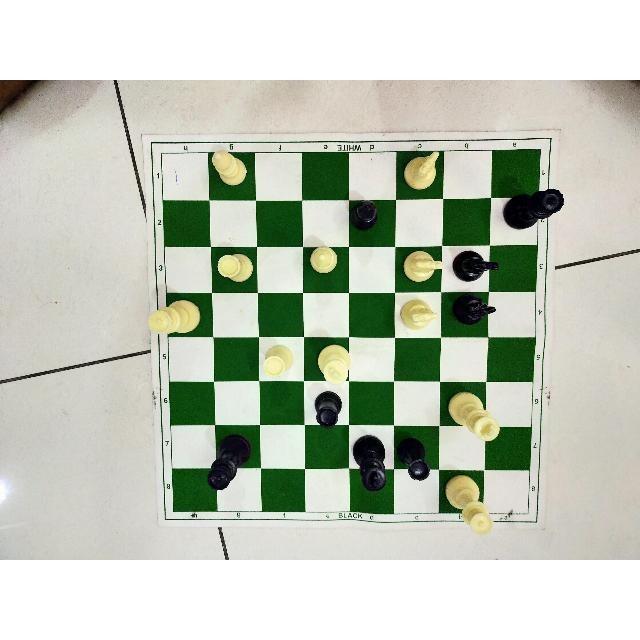black-bishop: (347, 198, 380, 234)
black-king: (350, 433, 389, 493)
black-knight: (450, 248, 502, 284), (449, 291, 498, 327)
black-queen: (501, 186, 566, 233), (205, 432, 253, 492)
black-rook: (395, 435, 432, 483), (313, 389, 343, 430)
white-bishop: (210, 147, 249, 187), (308, 242, 340, 275)
white-king: (445, 388, 501, 443), (316, 342, 352, 386)
white-knight: (402, 149, 442, 193), (398, 297, 440, 333), (402, 249, 444, 285)
white-queen: (443, 473, 497, 537), (147, 297, 203, 339)
white-rook: (215, 251, 255, 285), (262, 342, 294, 380)
